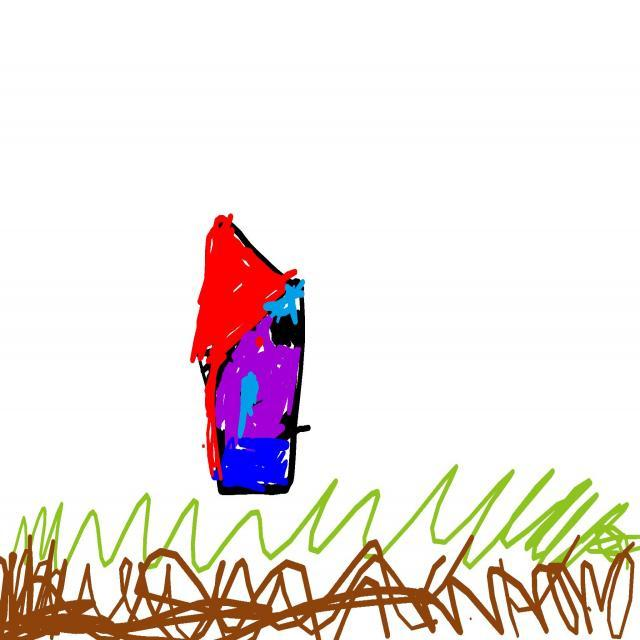house: (191, 215, 305, 495)
roof: (186, 209, 305, 368)
wall: (197, 283, 307, 502)
window: (236, 375, 255, 436)
